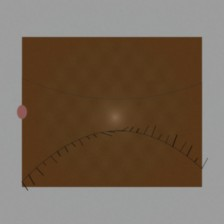pinguecula_lesion: (45, 87, 84, 118)
